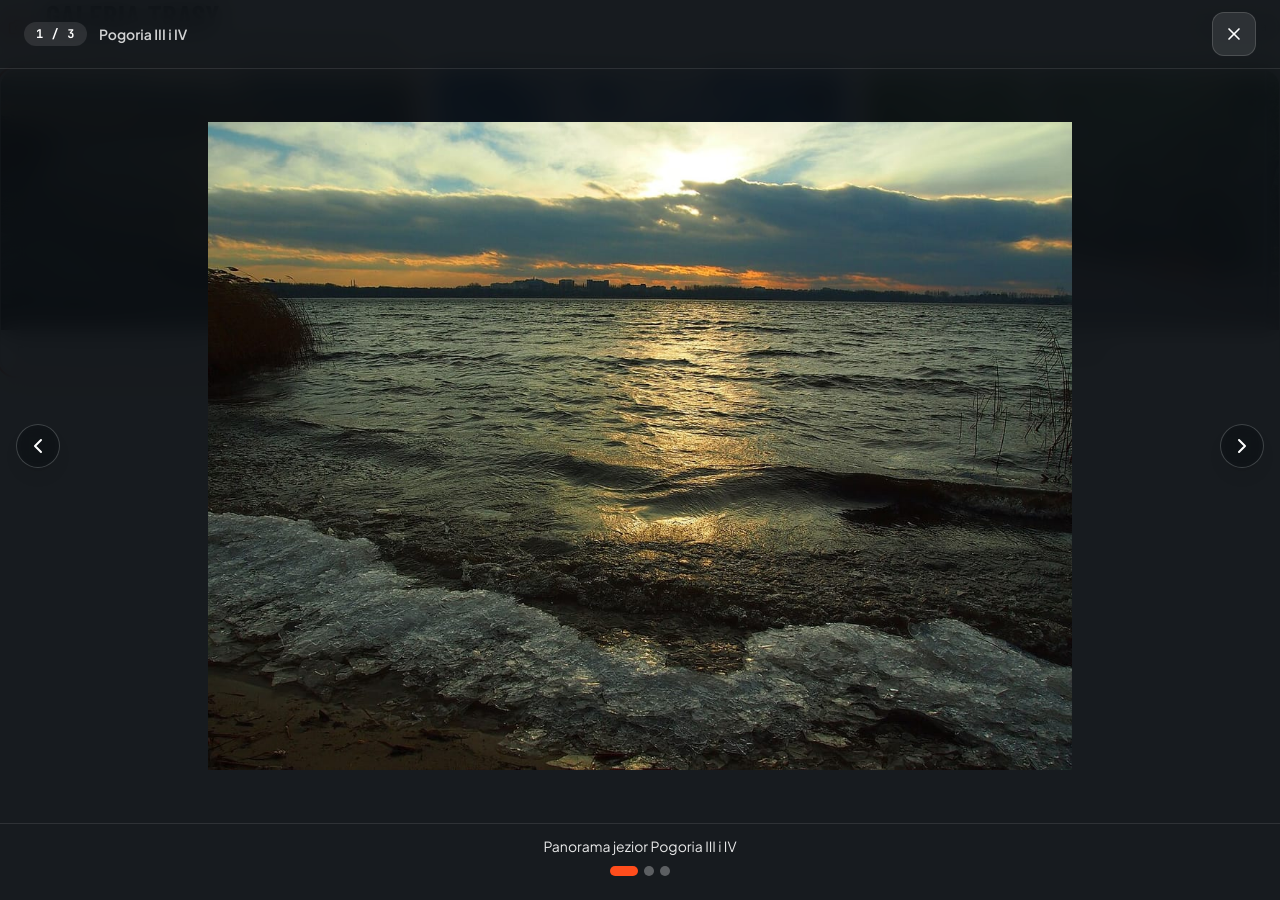
Test case: TrailGallery & PhotoLightbox › renders gallery thumbnails, opens Lightbox on click, supports ArrowRight/Escape and close button
Earlier steps of the test are not shown.
Expected: the text with test id "lightbox-counter" reads "1 / 3", [24,22,87,46]
Press ArrowRight
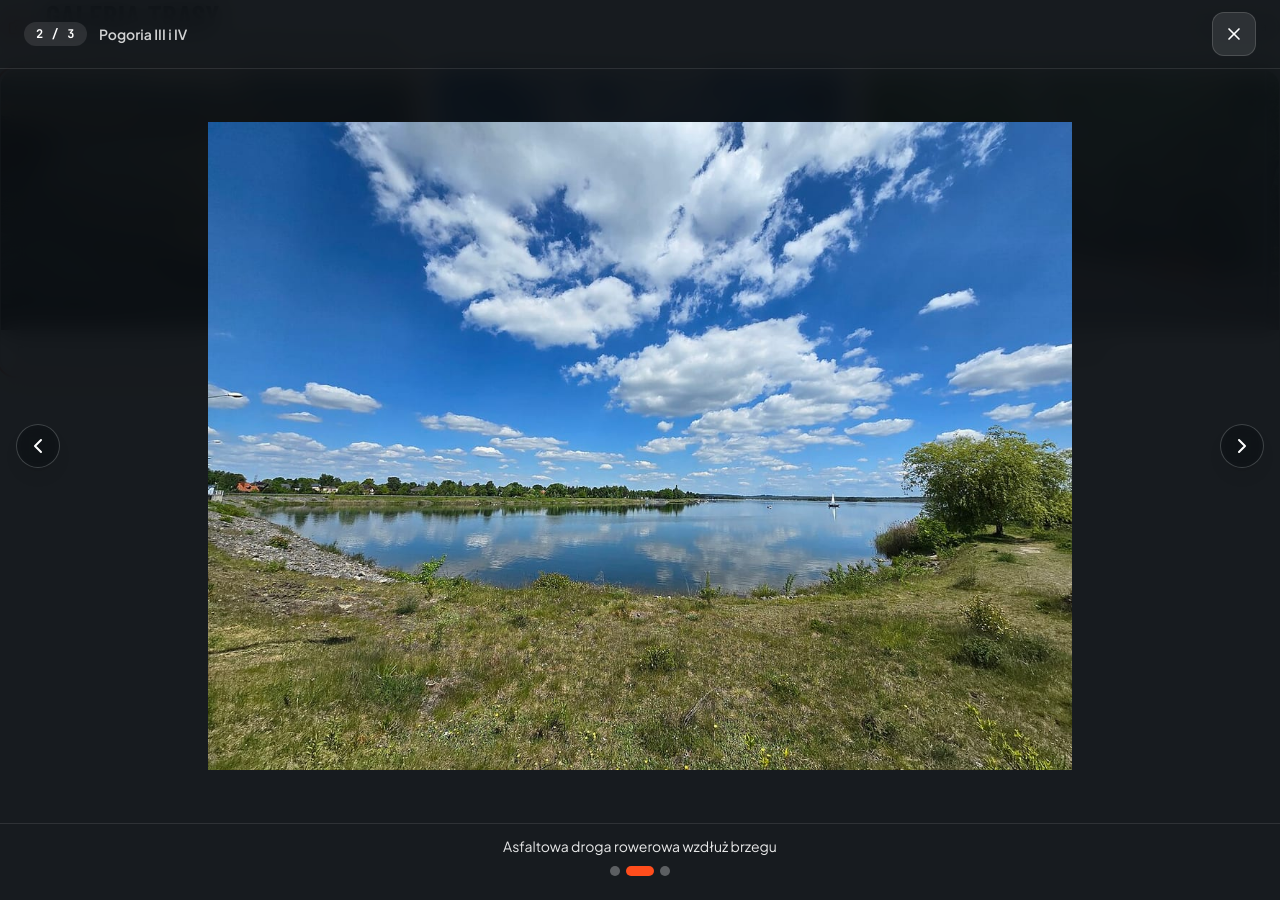
Expected: the text with test id "lightbox-counter" reads "2 / 3", [24,22,87,46]
Press ArrowLeft
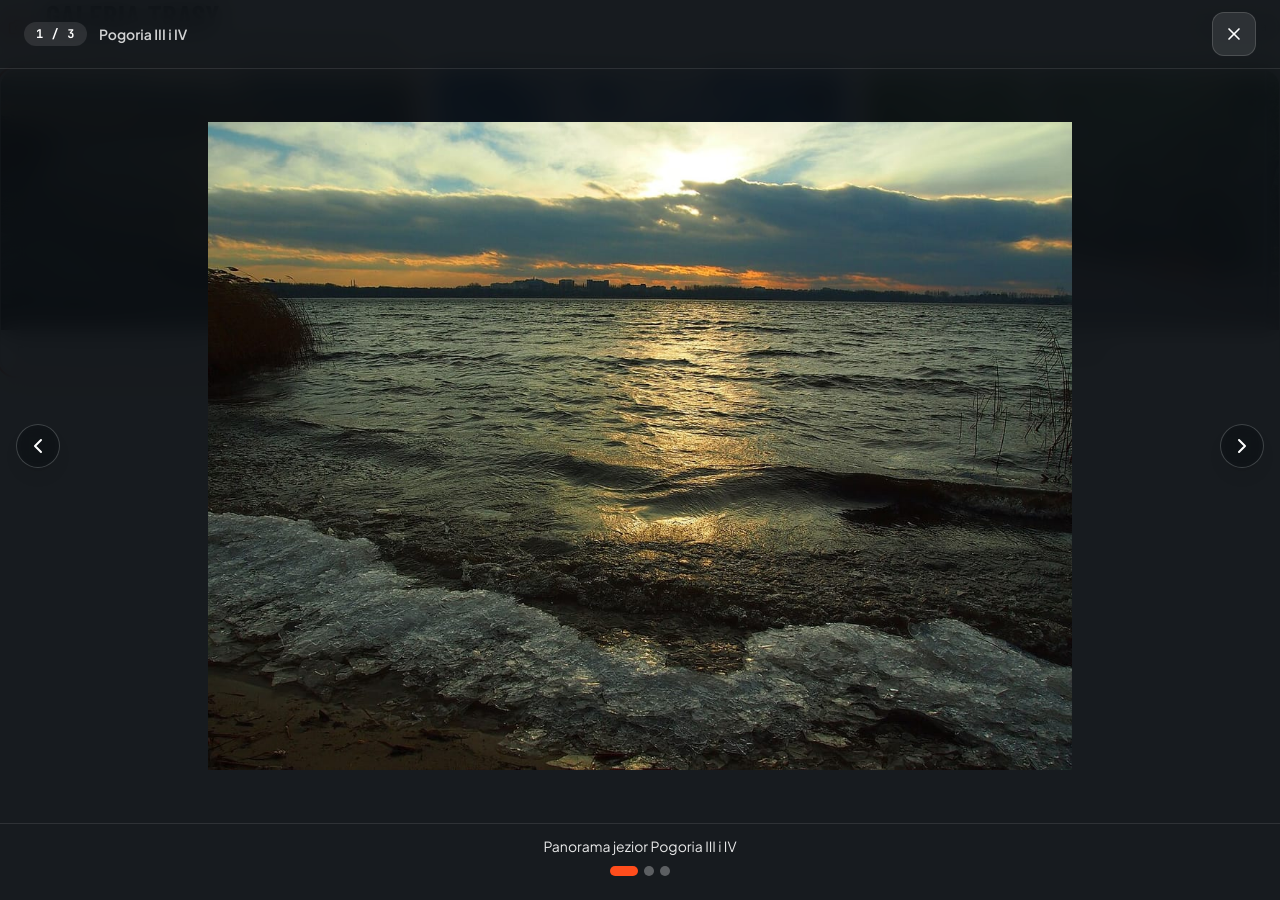
Expected: the text with test id "lightbox-counter" reads "1 / 3", [24,22,87,46]
Press the mouse on the element with test id "lightbox-stage" at (640, 446), box [0,69,1279,823]
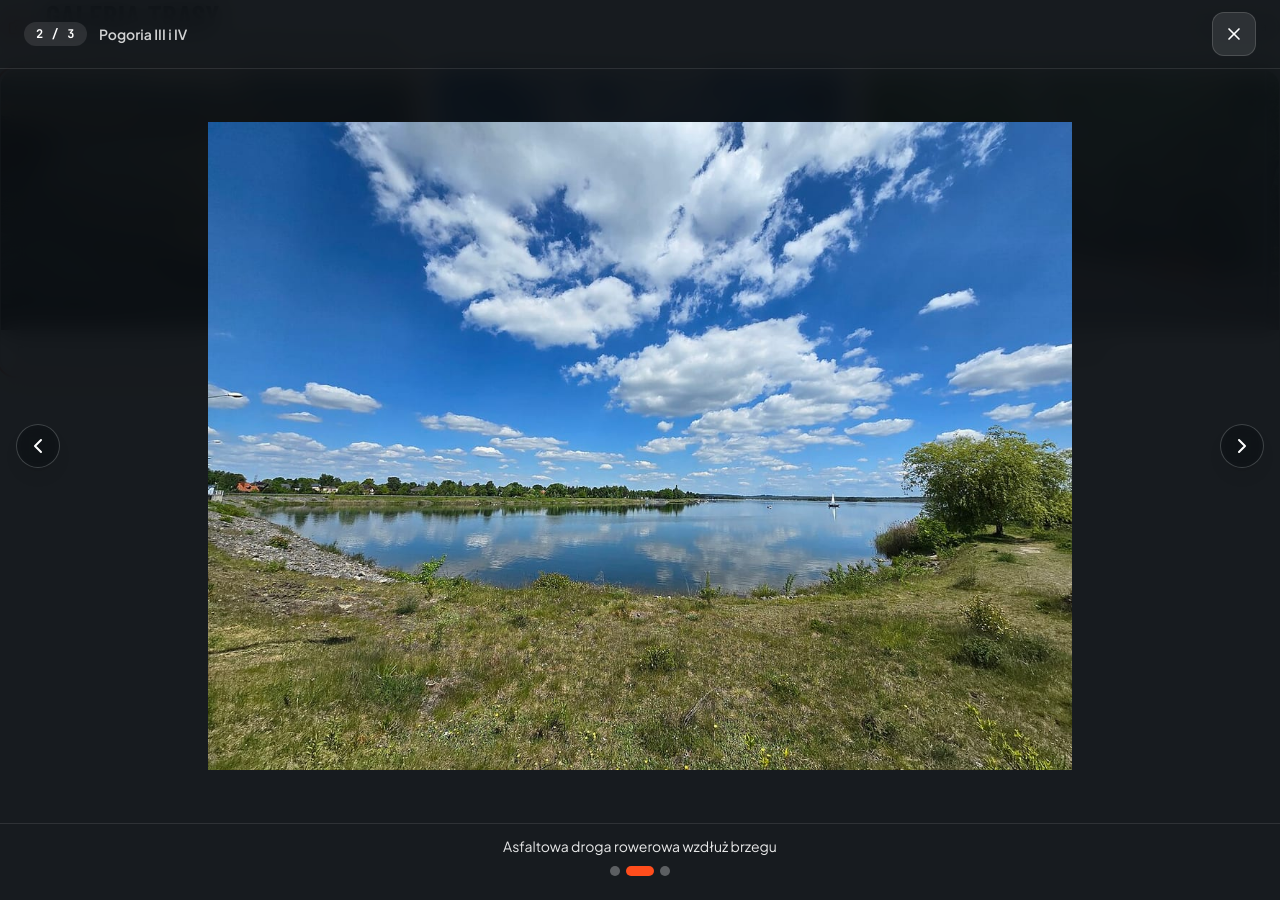
Expected: the text with test id "lightbox-counter" reads "2 / 3", [24,22,87,46]
Press Escape
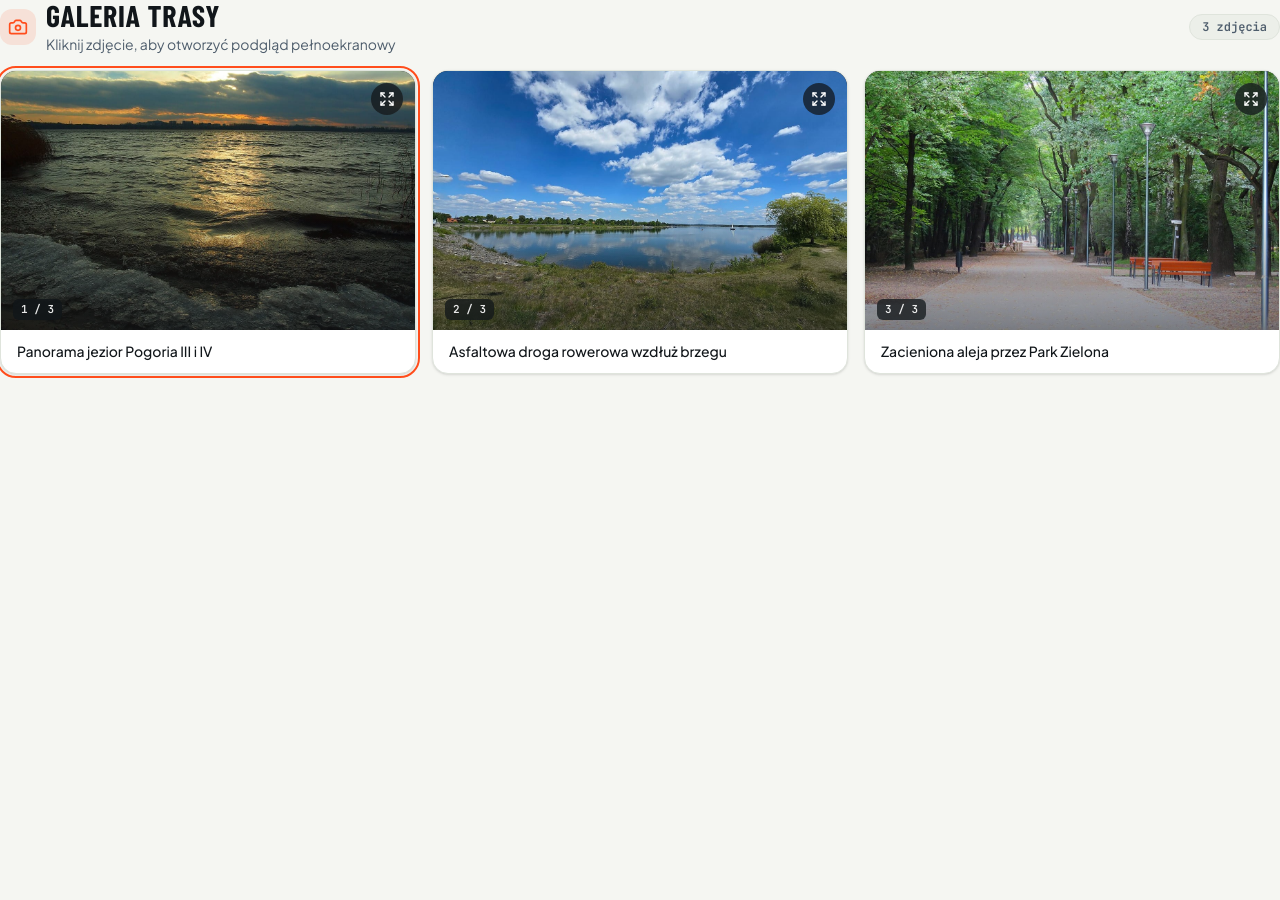
Expected: the dialog is gone
Click the button with aria-label "Otwórz zdjęcie". click: (640, 222)
box: [432,70,848,374]
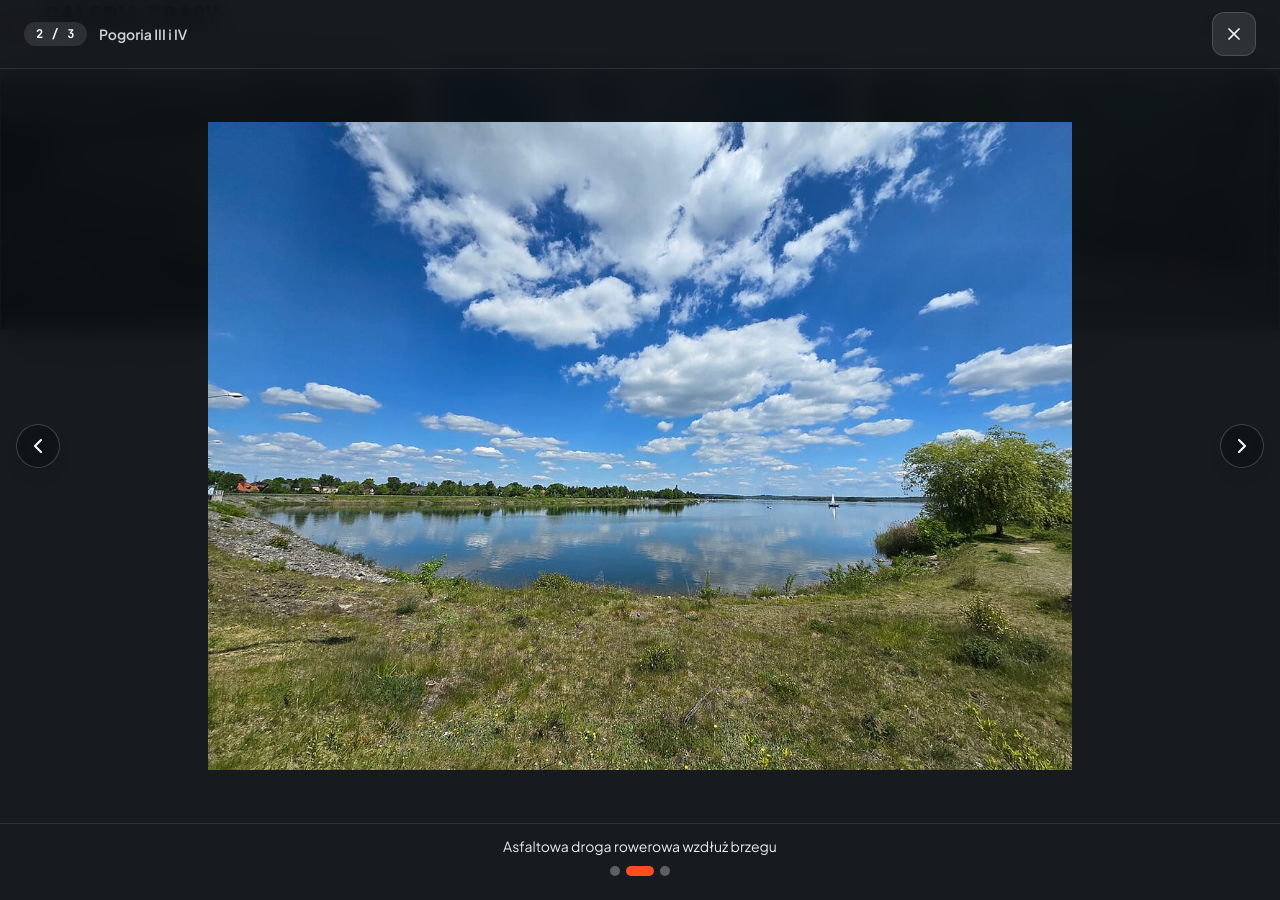
Expected: the text with test id "lightbox-counter" reads "2 / 3", [24,22,87,46]
Click the button named "Zamknij galerię". click: (1234, 34)
box: [1212,12,1256,56]
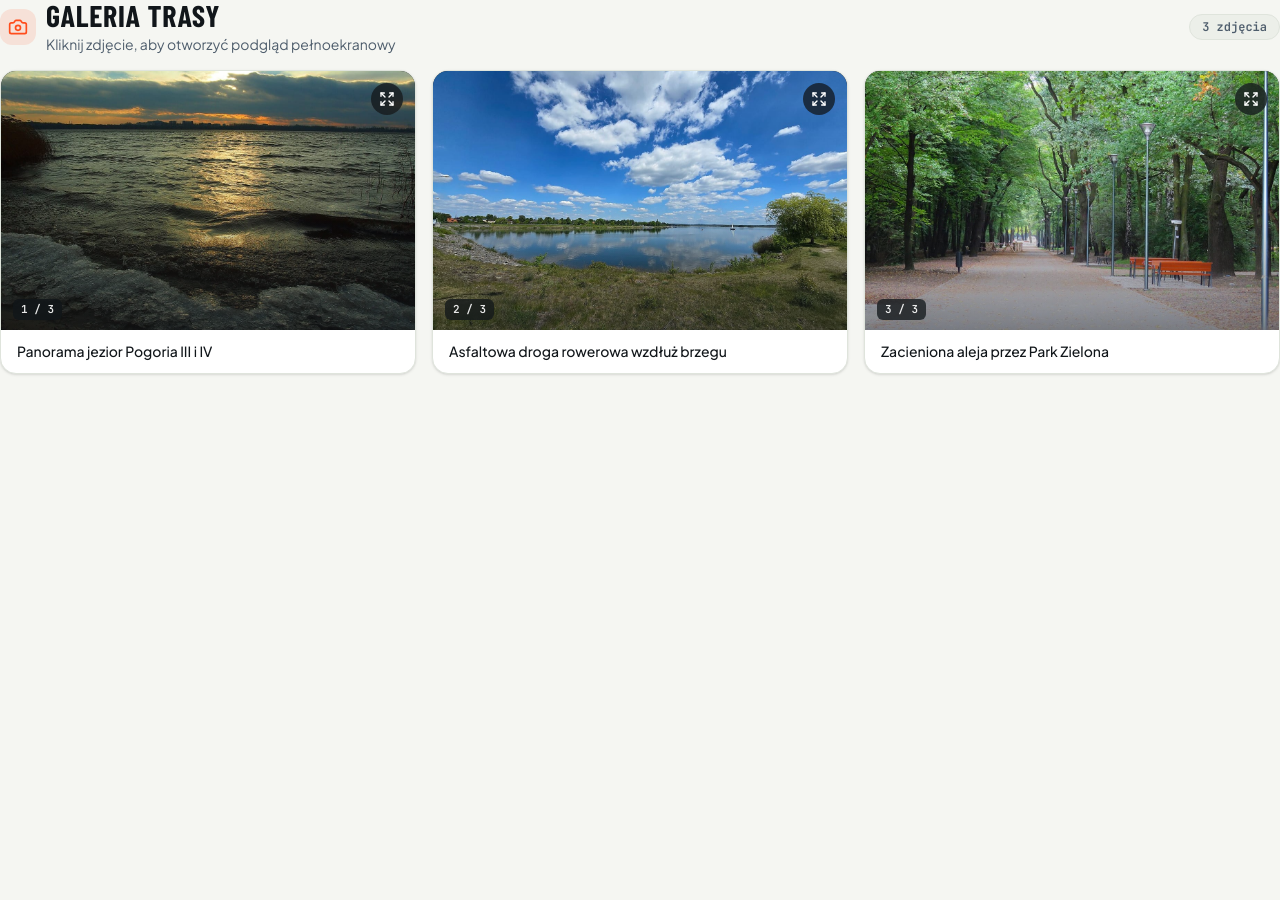
Expected: the dialog is gone
